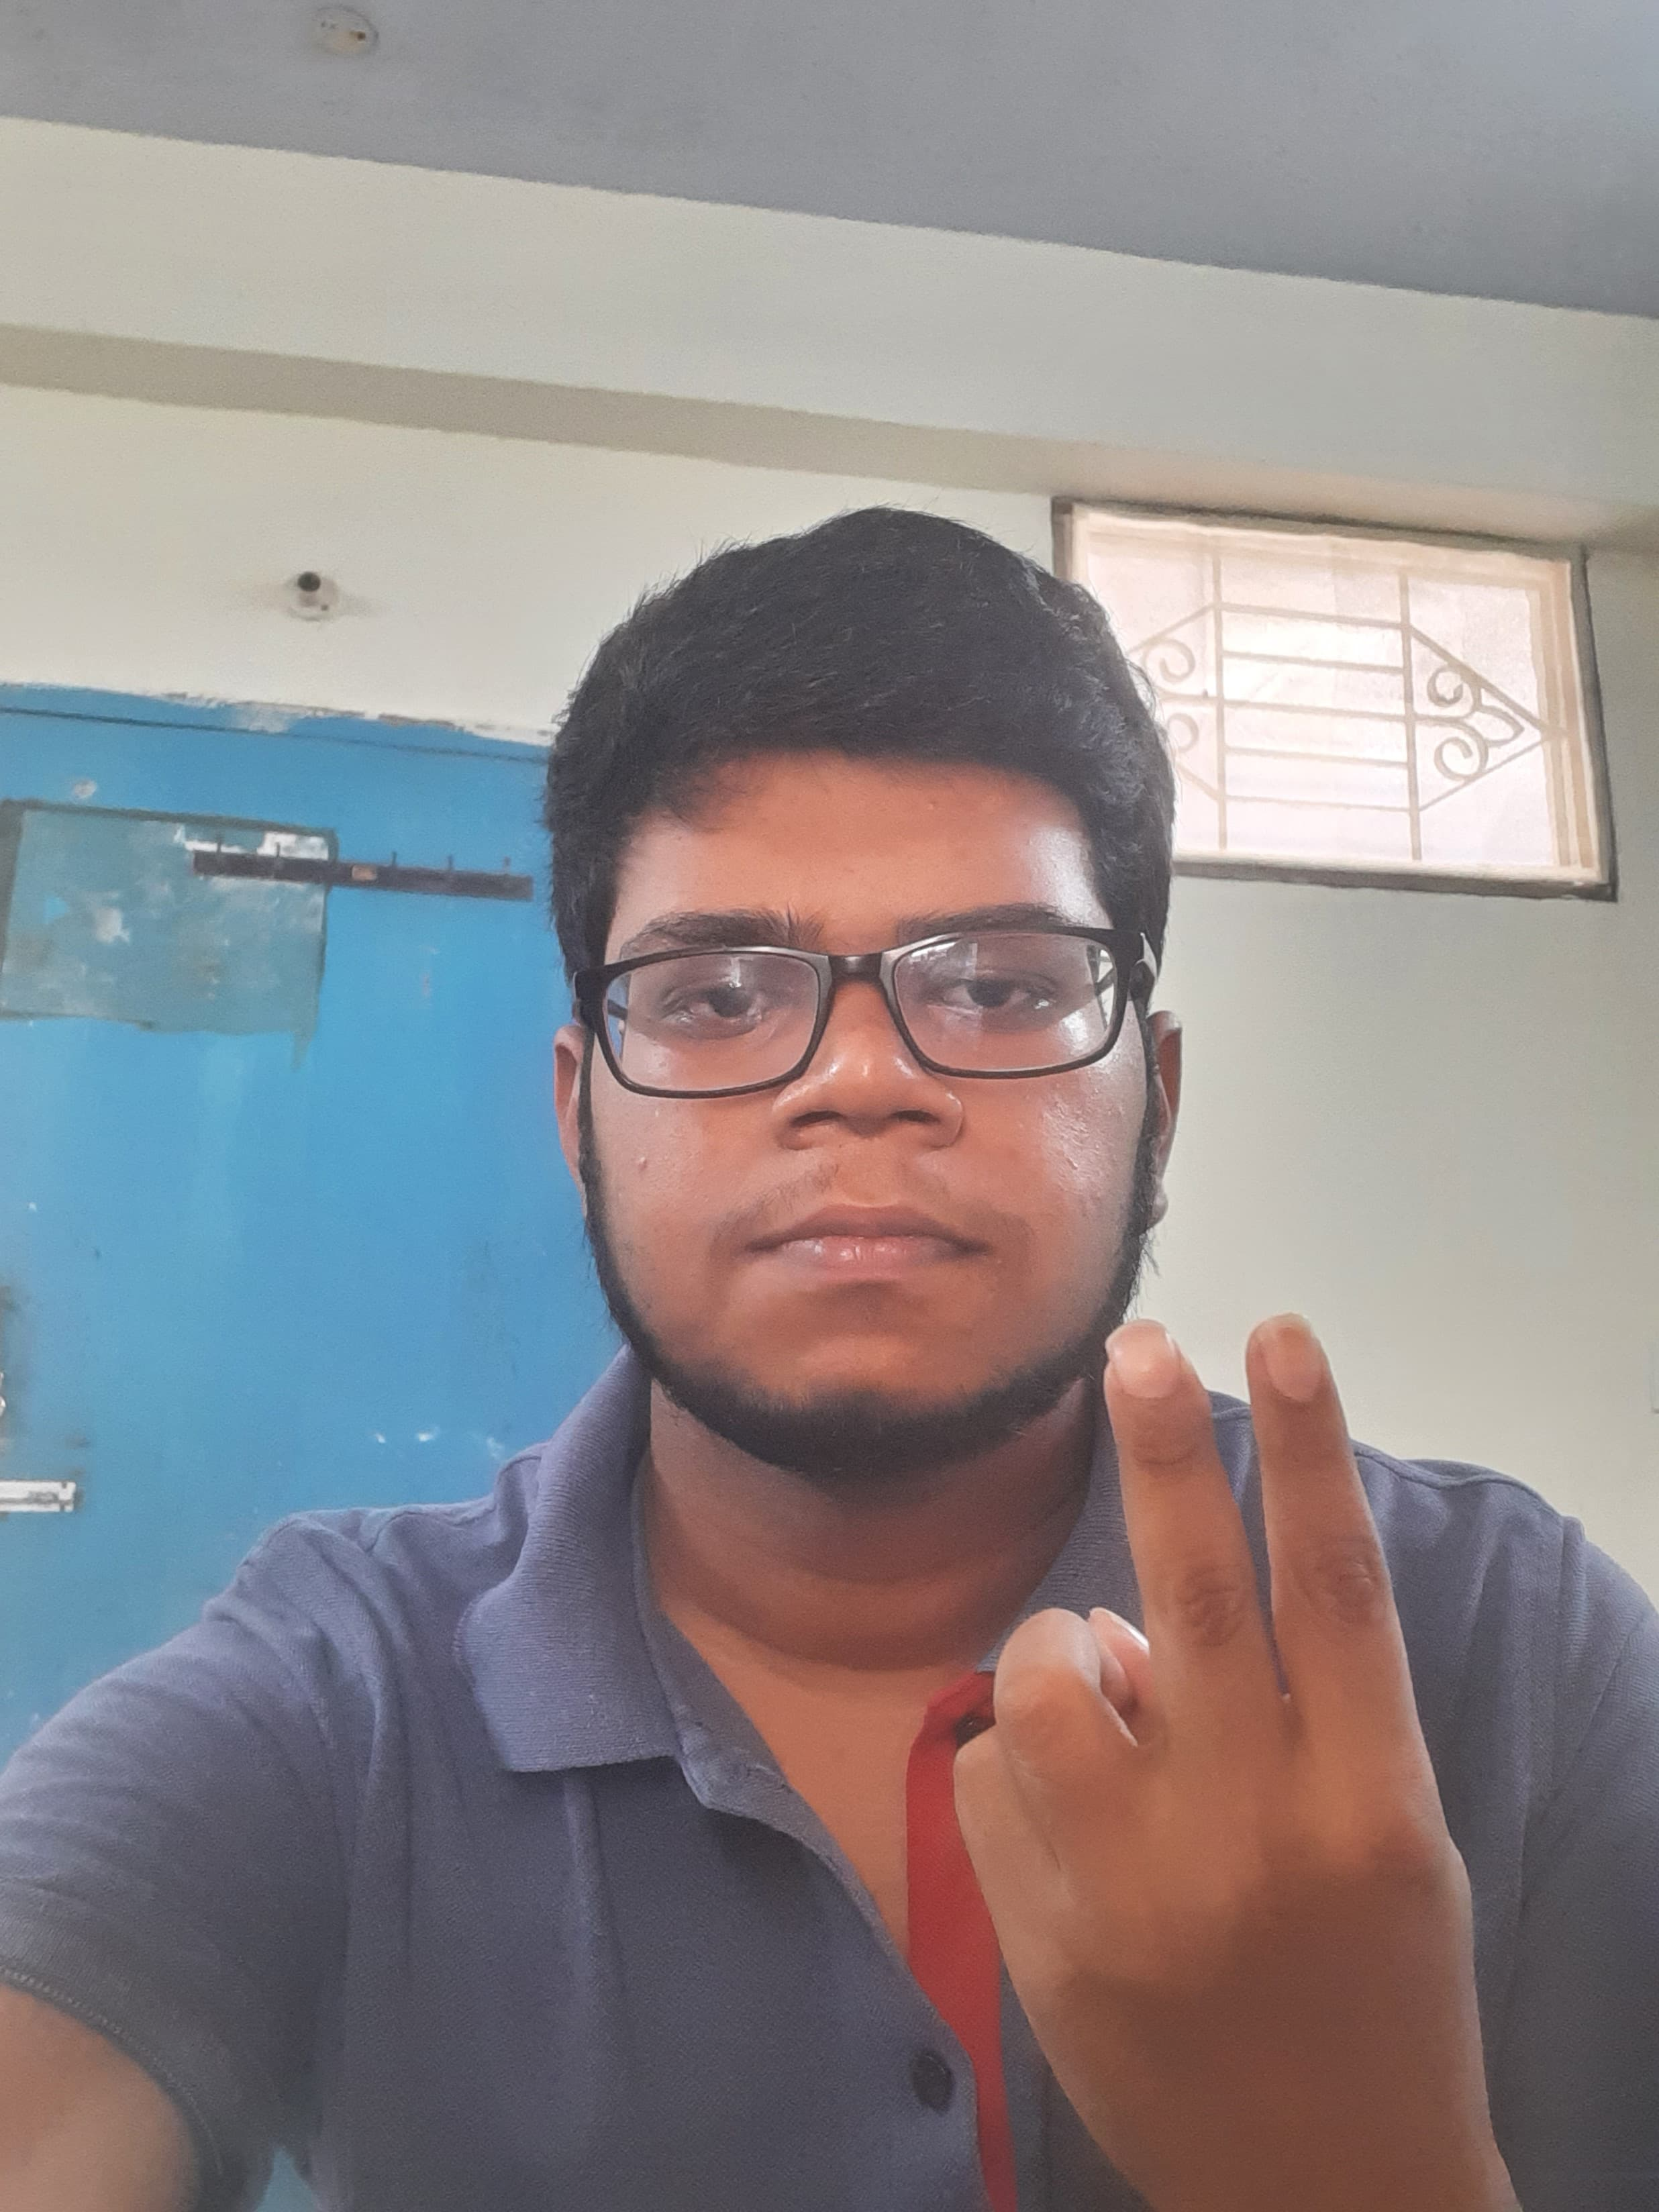ll11: (948, 1305, 1492, 2175)
